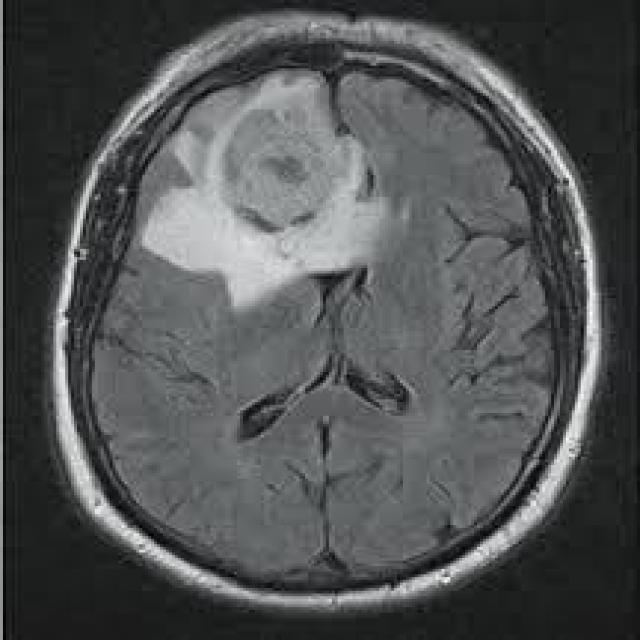Tumor-Cell: (132, 92, 405, 272)
